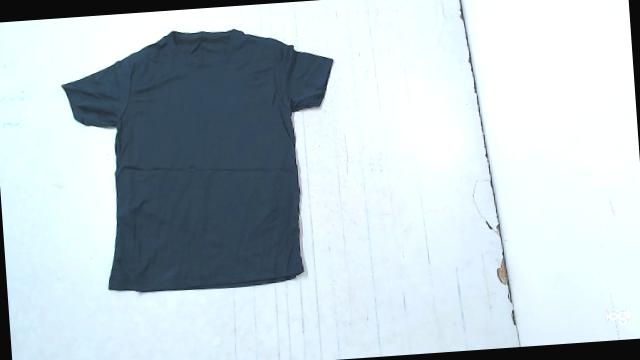new-garment: (62, 29, 332, 291)
